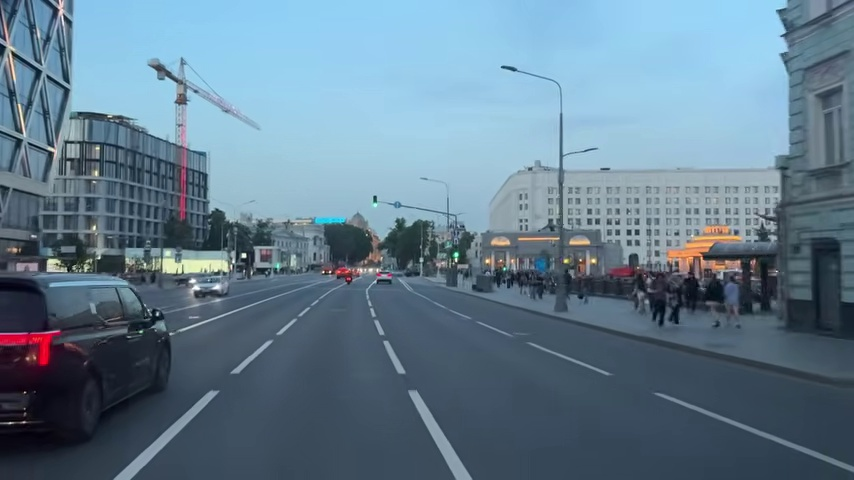apagada: (146, 60, 167, 84), (500, 60, 519, 76), (580, 145, 597, 157)
